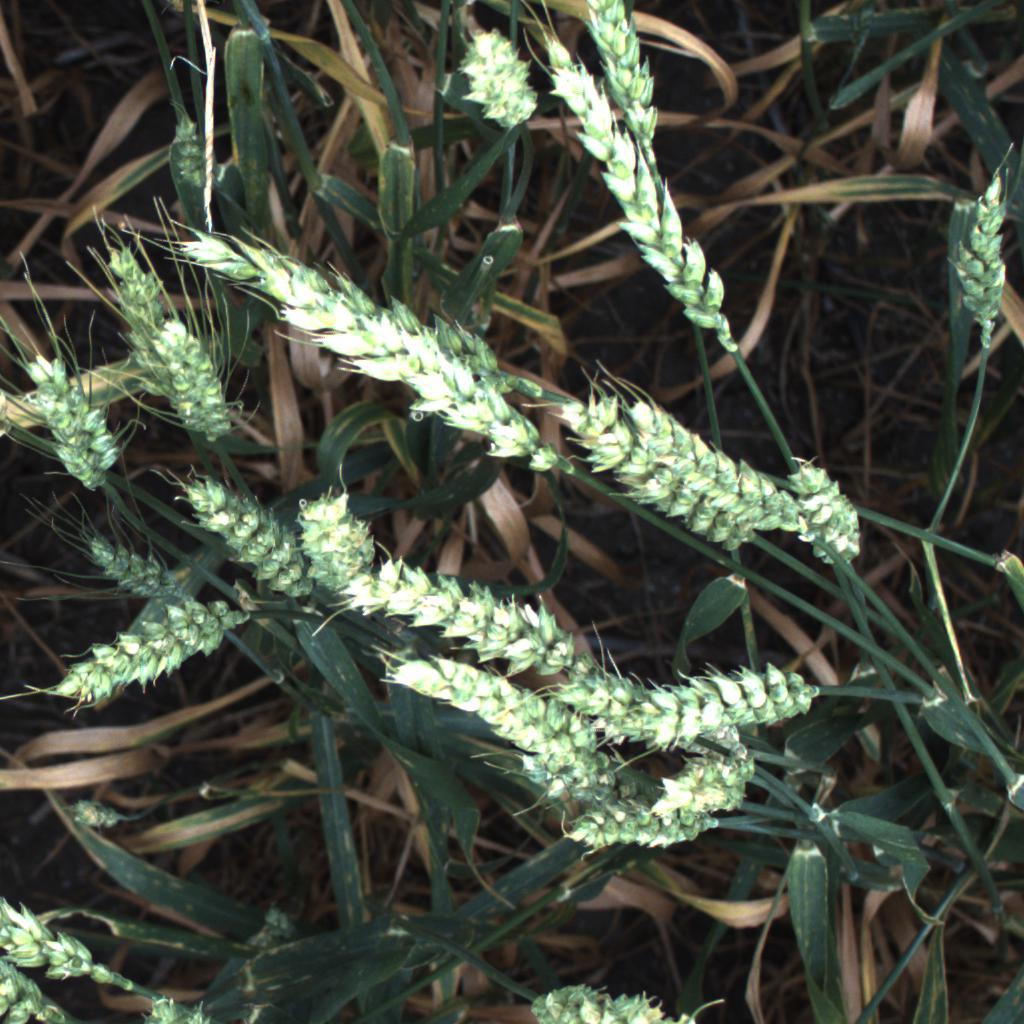0-0: (525, 0, 748, 366), (175, 229, 540, 404), (278, 288, 588, 493), (603, 384, 819, 551), (551, 397, 766, 551), (360, 538, 588, 683), (383, 640, 611, 778), (586, 646, 827, 763), (33, 582, 250, 701), (168, 464, 328, 615), (98, 231, 210, 398), (19, 340, 126, 498), (0, 886, 140, 995), (545, 781, 726, 864), (585, 0, 675, 166), (778, 434, 874, 588), (944, 170, 1019, 352), (143, 310, 239, 448), (286, 485, 392, 604), (444, 20, 547, 136), (636, 752, 764, 834), (525, 970, 712, 1021), (78, 525, 183, 608), (511, 747, 634, 797), (0, 957, 79, 1023), (63, 784, 142, 843)
